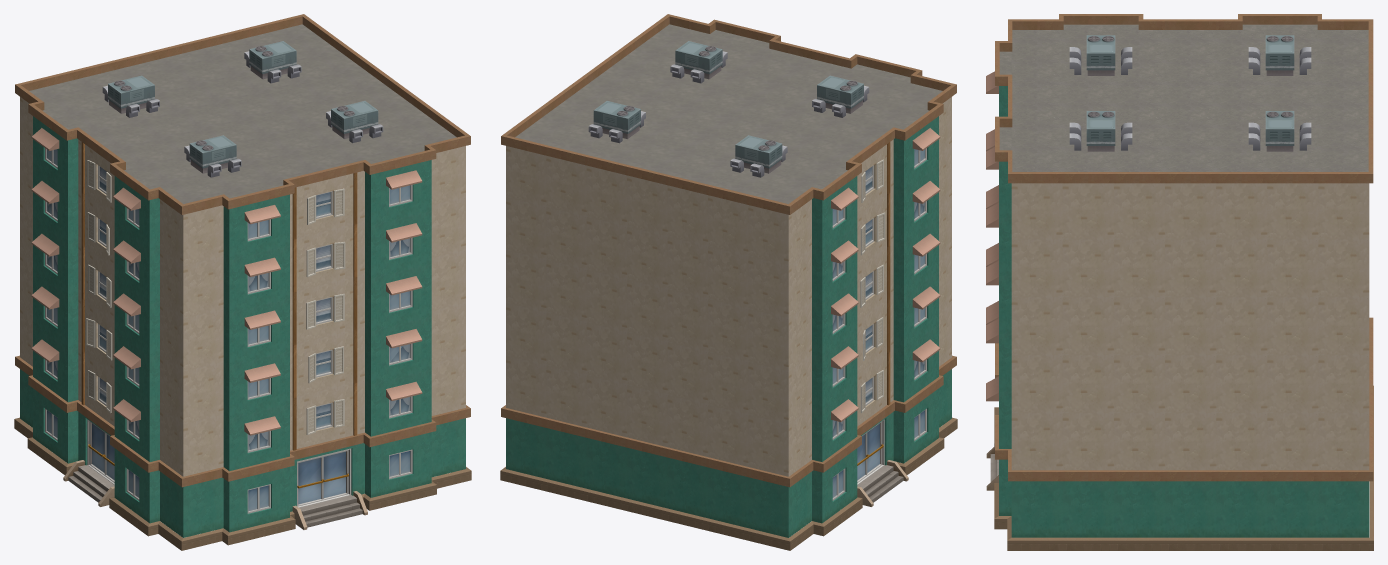
File: Building_8.glb
3 views of the same model, side by side, from view 1: azimuth 30°, elevation 25°; view 2: azimuth 150°, elevation 25°; view 3: azimuth 270°, elevation 25° (orthographic). The views are drawn at different scales.
Parts seen in each view (by area): view 1: Building_8_Decor_1_1; view 2: Building_8_Decor_1_1; view 3: Building_8_Decor_1_1.
Boxes of the visible parts, x1=… form: Building_8_Decor_1_1: x1=14, y1=14, x2=471, y2=550; Building_8_Decor_1_1: x1=500, y1=14, x2=957, y2=550; Building_8_Decor_1_1: x1=986, y1=14, x2=1373, y2=550.
Bounding box in the file's own units: 15.18 × 16.95 × 15.18.
13 materials, 13 textured.
